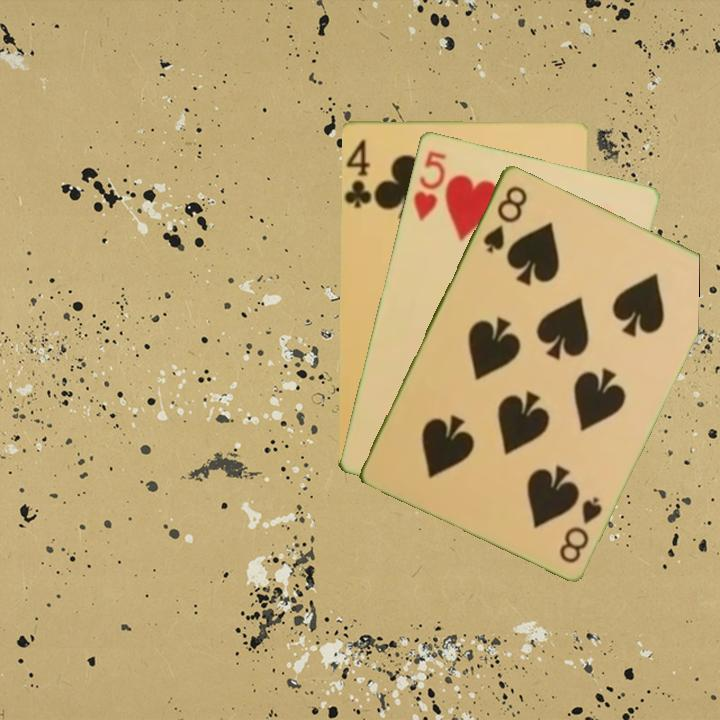4c: (343, 135, 374, 211)
5h: (409, 146, 449, 224)
8s: (479, 181, 530, 256), (555, 493, 605, 566)
